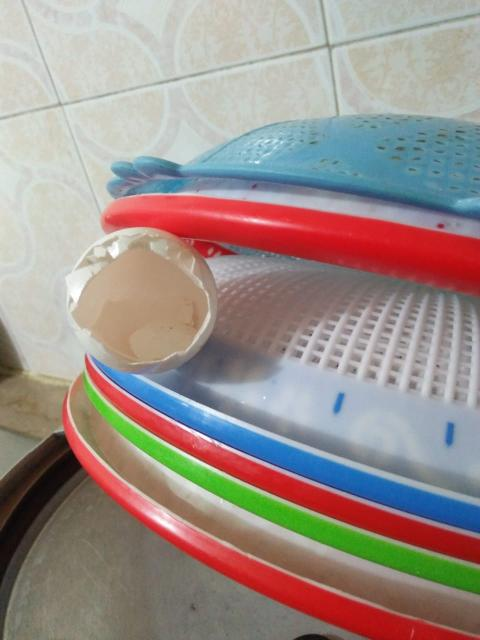Roto: (64, 226, 218, 374)
